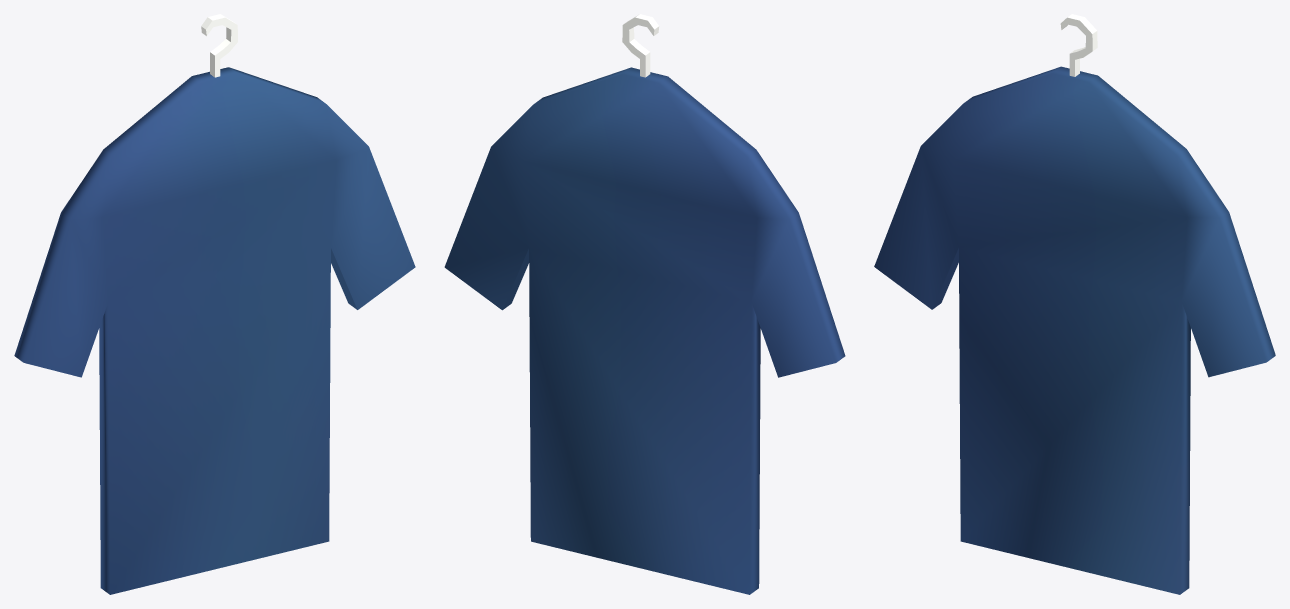
File: ClothingHangerWhiteShirtBlue.glb
3 renders of one model, left to right at view 1: azimuth 30°, elevation 25°; view 2: azimuth 150°, elevation 25°; view 3: azimuth 330°, elevation 25°, orthographic.
Visible parts, largest first — view 1: ClothingHangerWhiteShirtBlue; view 2: ClothingHangerWhiteShirtBlue; view 3: ClothingHangerWhiteShirtBlue.
Part boxes in pixels (x1,y1,x2,y2): ClothingHangerWhiteShirtBlue: (14, 14, 415, 594); ClothingHangerWhiteShirtBlue: (444, 14, 845, 594); ClothingHangerWhiteShirtBlue: (874, 14, 1275, 594).
Bounding box in the file's own units: 0.76 × 1.01 × 0.0315.
1 material, 1 textured.
